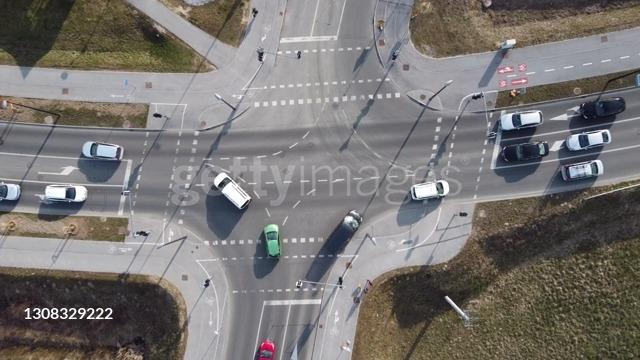car: (324, 200, 366, 255), (212, 171, 256, 213), (578, 94, 630, 122), (405, 176, 453, 204), (260, 220, 288, 264), (78, 139, 128, 163), (41, 182, 89, 206), (496, 106, 544, 130), (562, 129, 616, 149), (499, 139, 548, 161), (558, 160, 606, 182), (0, 179, 28, 205), (256, 334, 276, 360)
